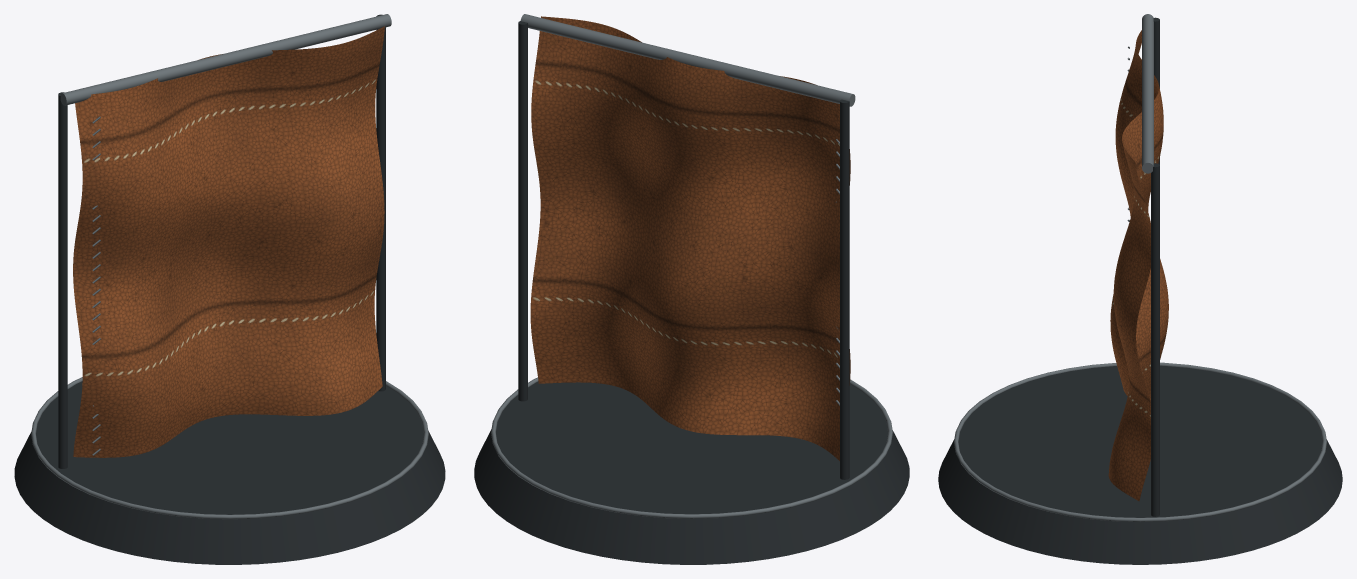
The picture shows the model from 3 angles, left to right: view 1: azimuth 30°, elevation 25°; view 2: azimuth 150°, elevation 25°; view 3: azimuth 270°, elevation 25°; orthographic projection. The views are drawn at different scales.
Parts seen in each view (by area): view 1: surface specimen, neutral specimen stand, specimen edge; view 2: surface specimen, neutral specimen stand, specimen edge; view 3: neutral specimen stand, surface specimen, specimen edge.
Boxes of the visible parts, x1,y1,x2,y2 form: surface specimen: (73, 26, 384, 457); neutral specimen stand: (14, 14, 445, 564); specimen edge: (31, 14, 428, 519); surface specimen: (530, 16, 850, 460); neutral specimen stand: (474, 21, 909, 564); specimen edge: (491, 14, 892, 518); neutral specimen stand: (938, 17, 1342, 564); surface specimen: (1108, 30, 1168, 501); specimen edge: (954, 14, 1326, 521).
Bounding box in the file's own units: 0.54 × 0.576 × 0.54.
3 materials, 1 textured.
